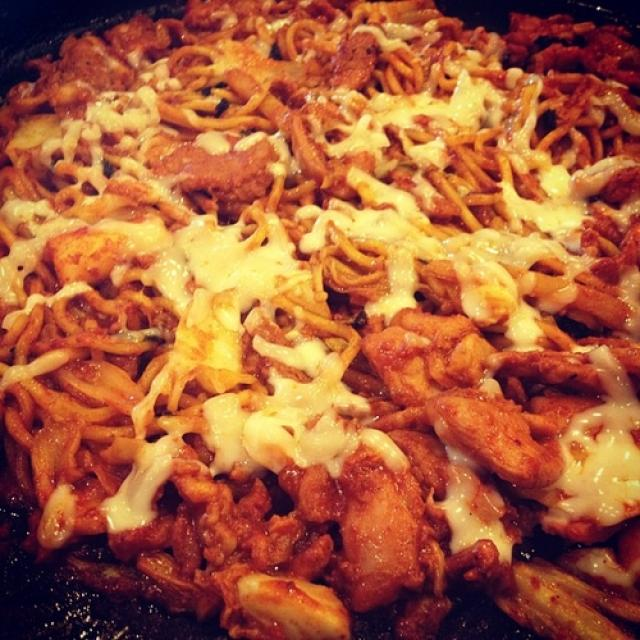鸡肉料理 含炸鸡: (11, 16, 634, 636)
